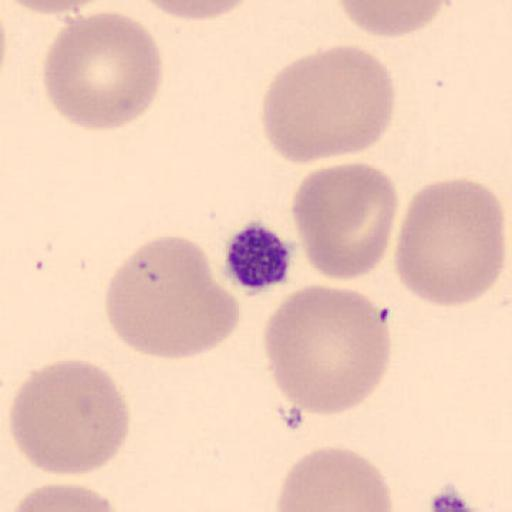Platelet: (220, 218, 294, 294)
RBC: (103, 233, 241, 362), (263, 283, 394, 418), (260, 45, 398, 165), (41, 9, 164, 132), (395, 177, 507, 308), (8, 359, 131, 477), (291, 159, 399, 282), (274, 444, 394, 512), (336, 0, 450, 38), (6, 482, 121, 512), (136, 0, 255, 21), (4, 0, 102, 18)
